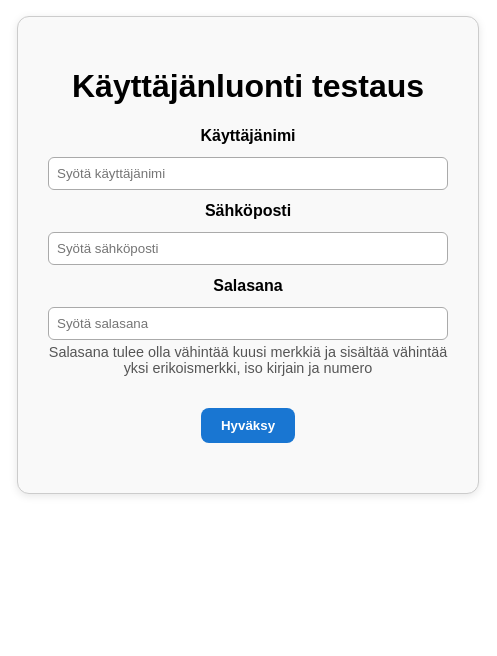
Test case: Käyttäjätunnuksen vahvuustesti › näyttää virheet heikosta käyttäjänimestä ja hyväksyy vahvan
// Sähköpostin ja salasanan syöttö
Type "testi@gmail.com" into the field with placeholder "Syötä sähköposti" at x=248, y=249, box 48,232 -> 448,265
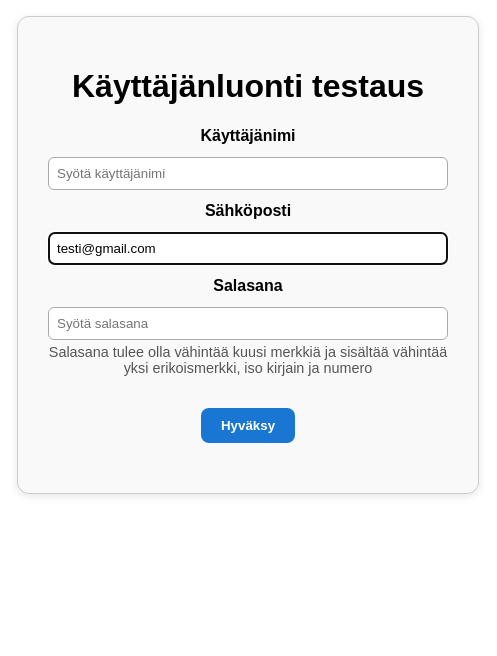
Type "Jonne62!" into the password field with placeholder "Syötä salasana" at x=248, y=324, box 48,307 -> 448,340
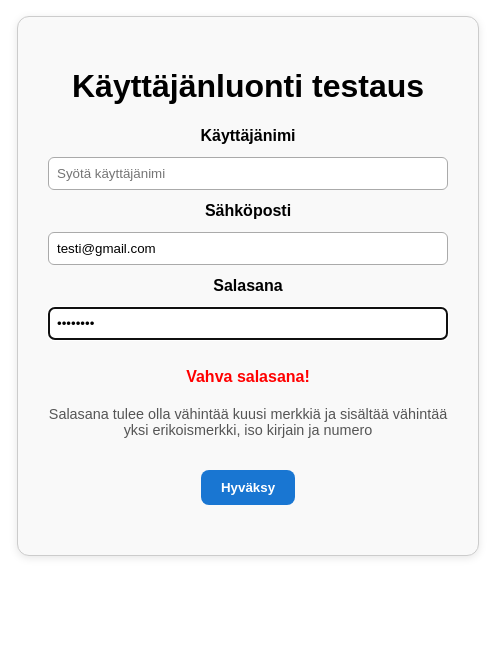
// Liian lyhyt käyttäjänimi
Type "J1" into the field with placeholder "Syötä käyttäjänimi" at x=248, y=174, box 48,157 -> 448,190
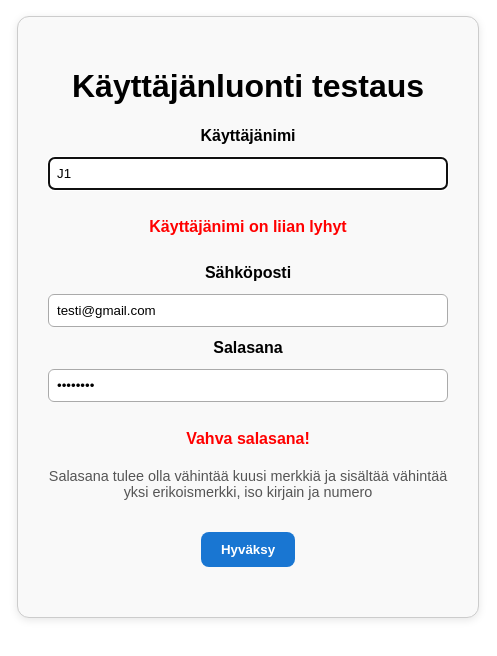
expect the text "Käyttäjänimi on liian lyhyt" is shown: met, box 149,218 -> 347,235
// Tyhjennetään kenttä ennen uutta syöttöä
Replace the text in the 1st field with placeholder "Syötä käyttäjänimi" with "jonne1" at x=248, y=174, box 48,157 -> 448,190
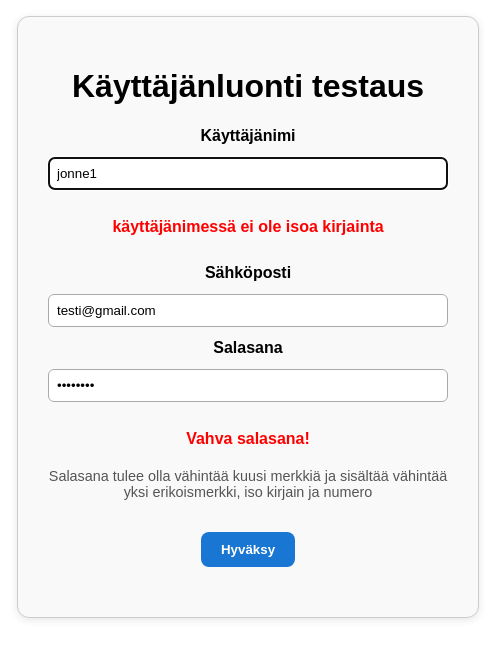
expect the text "käyttäjänimessä ei ole isoa kirjainta" is shown: met, box 112,218 -> 384,235
// Käyttäjänimi ilman numeroa tai erikoismerkkiä
Replace the text in the 1st field with placeholder "Syötä käyttäjänimi" with "Jonne" at x=248, y=174, box 48,157 -> 448,190
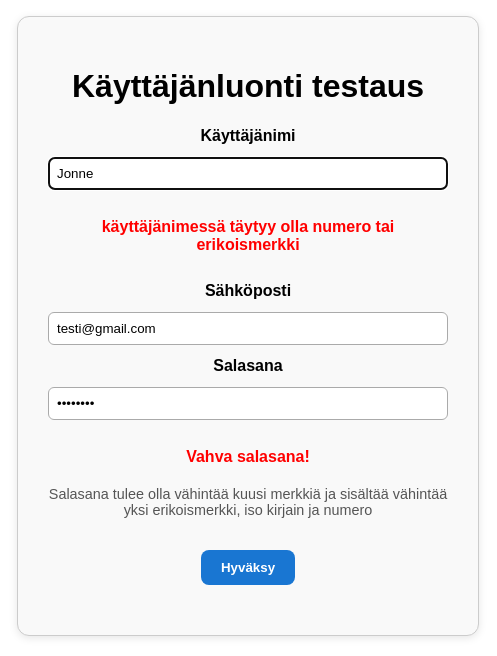
expect the text "käyttäjänimessä täytyy olla numero tai erikoismerkki" is shown: met, box 102,218 -> 394,253
// Hyväksyttävä käyttäjätunnus
Replace the text in the 1st field with placeholder "Syötä käyttäjänimi" with "Jonne1!" at x=248, y=174, box 48,157 -> 448,190
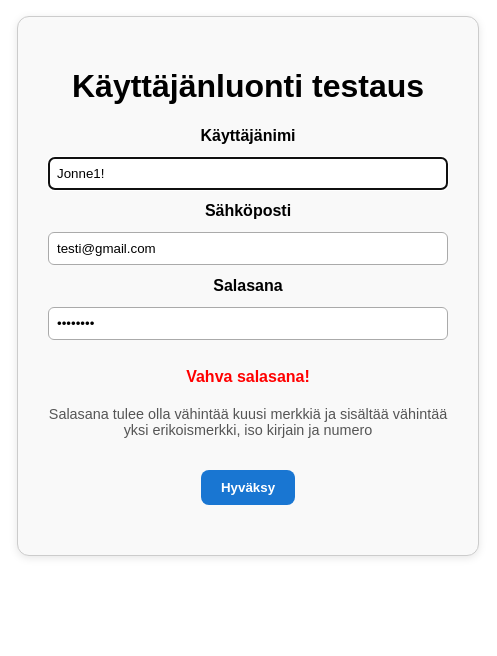
expect the text "käyttäjänimessä ei ole isoa kirjainta" is not shown: met
expect the text "Käyttäjänimi on liian lyhyt" is gone: met
